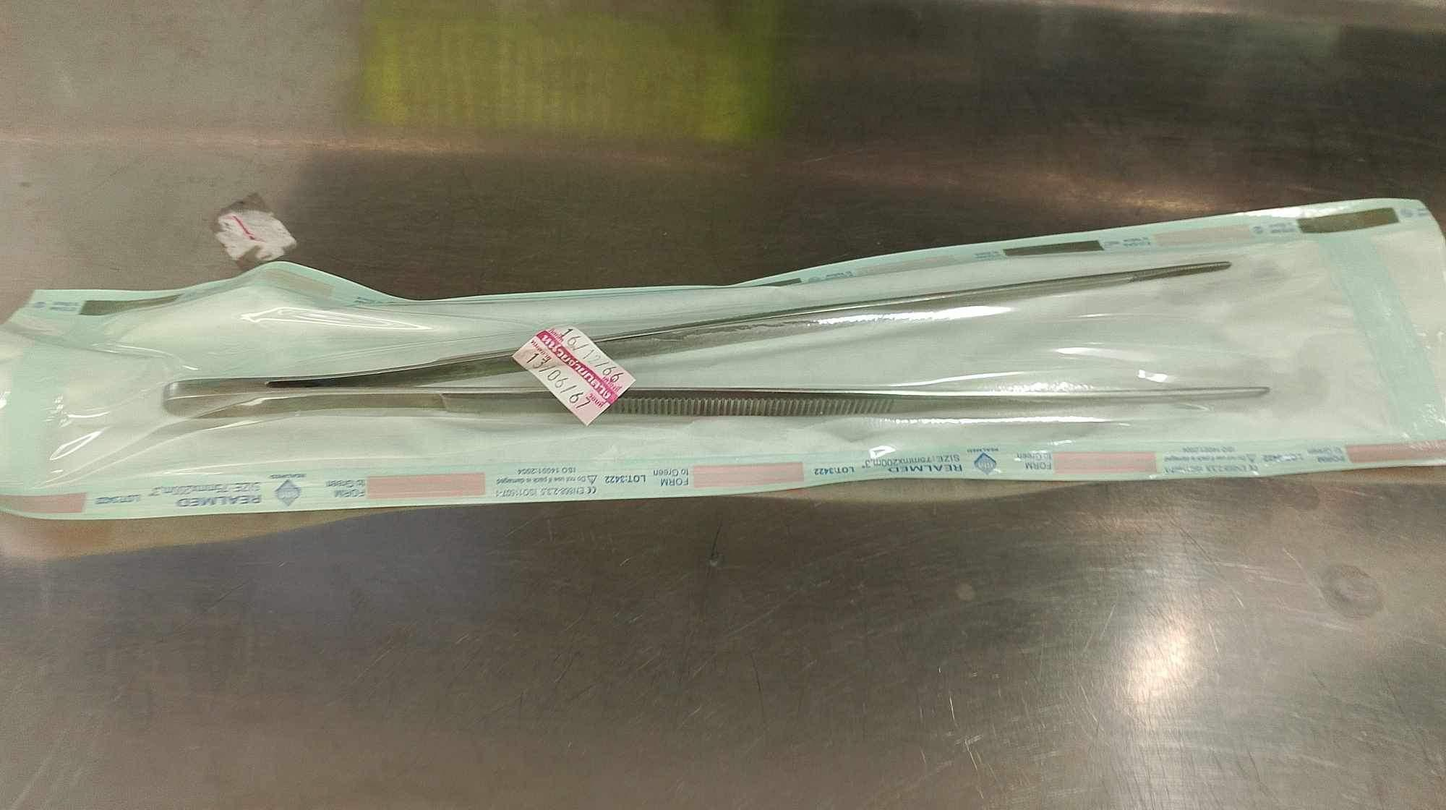General: (3, 193, 1442, 521)
